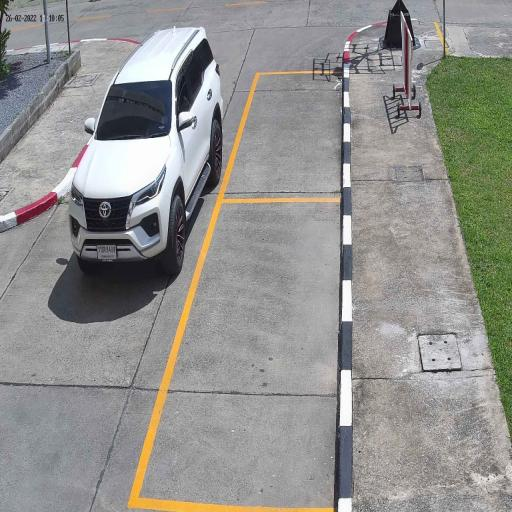car: (68, 26, 224, 273)
